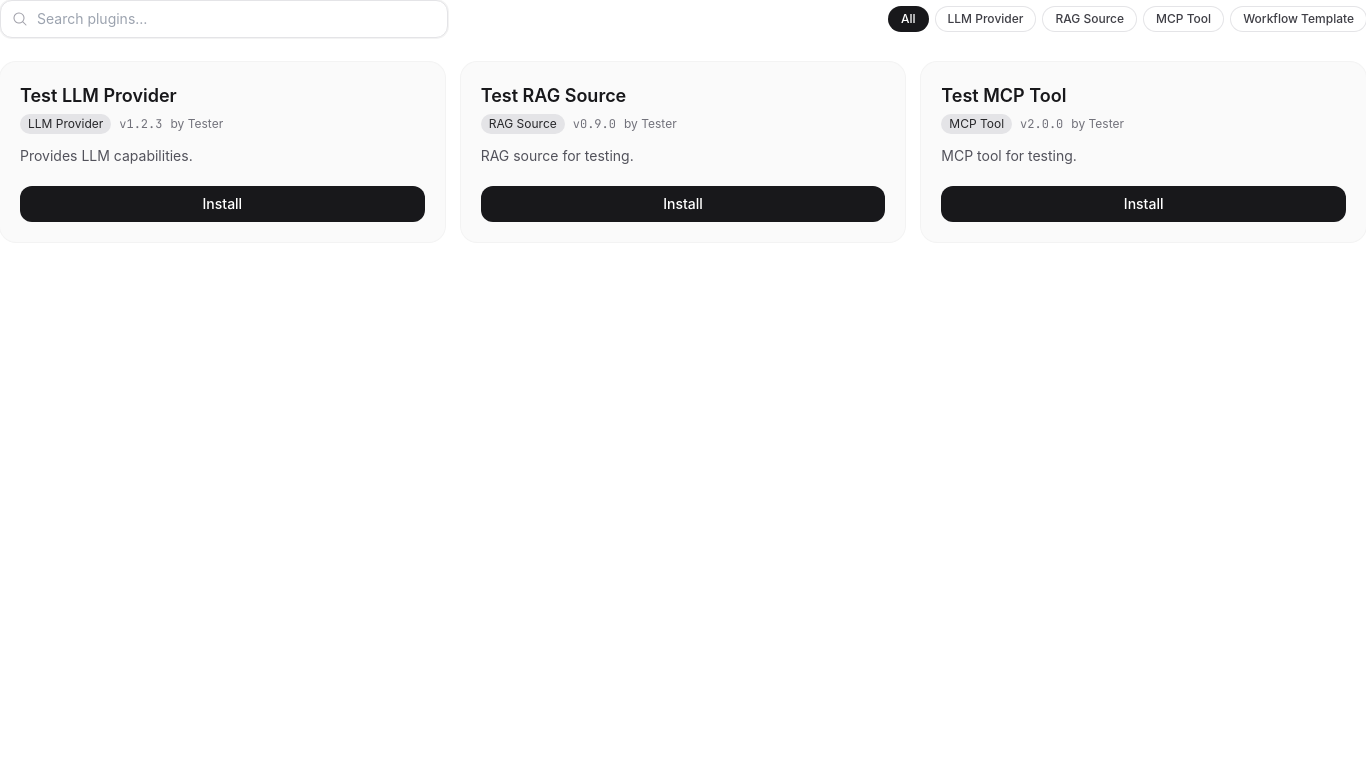
it: MarketplacePanel › opens permission modal with network egress hosts and secrets on Install
This screenshot has width=1366, height=768.
Click the button with test id "install-button-plugin-llm".
click(222, 204)  # box [20,186,425,222]
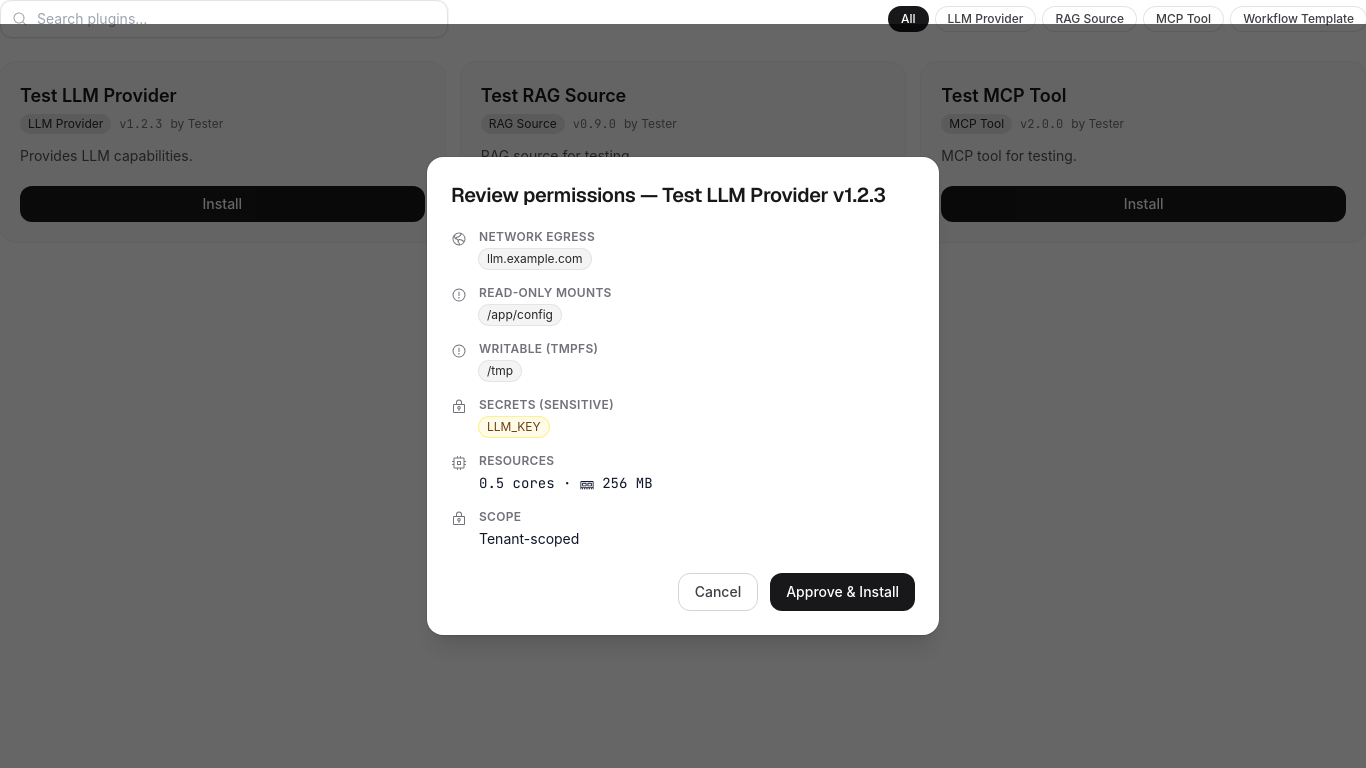
Check: the dialog with test id "permission-modal" is shown
Check: the dialog with test id "permission-modal" shows "llm.example.com", box [487,251,583,266]
Check: the dialog with test id "permission-modal" shows "LLM_KEY", box [487,419,541,434]
